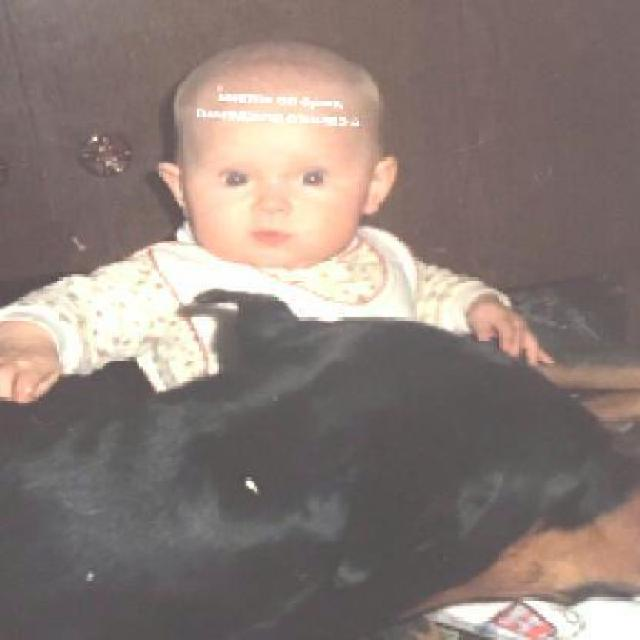child: (2, 34, 558, 406)
